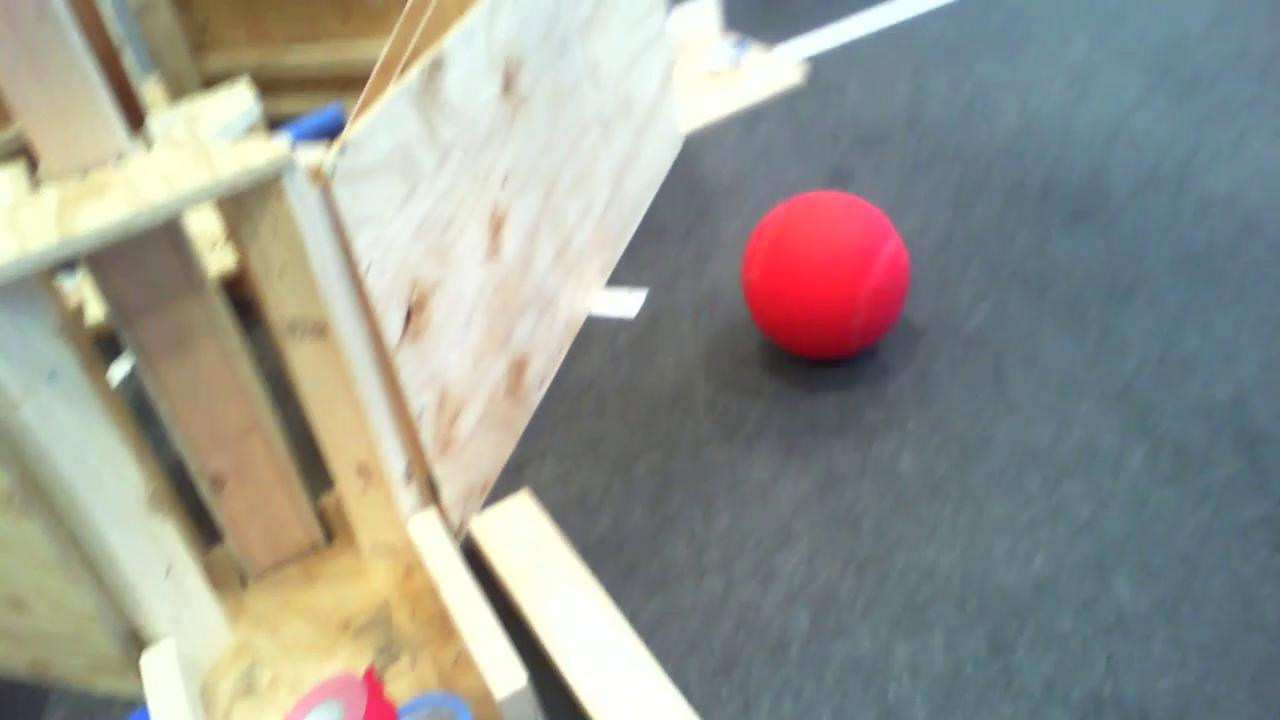Red_Ball: (716, 177, 931, 376)
